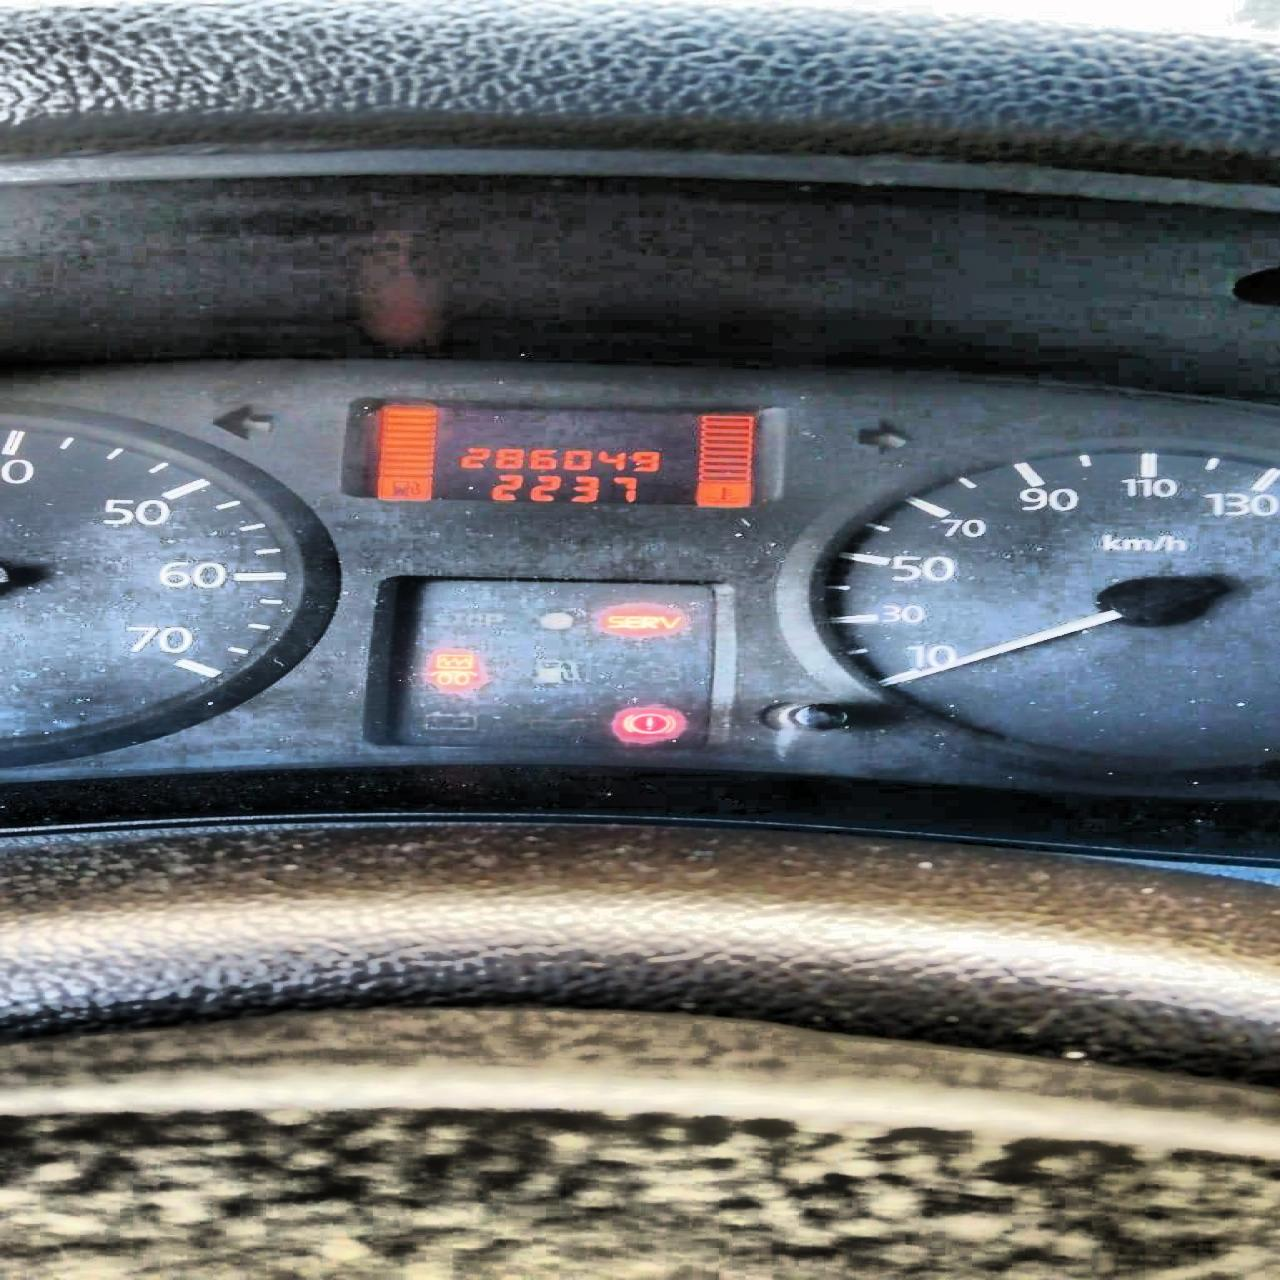0: (561, 449, 591, 470)
2: (489, 475, 520, 499), (530, 475, 559, 501), (459, 447, 490, 467)
3: (570, 476, 598, 501)
4: (598, 450, 625, 470)
6: (527, 449, 557, 469)
7: (611, 477, 636, 502)
8: (495, 448, 523, 468)
9: (631, 451, 659, 471)
odometer: (372, 404, 763, 508)
